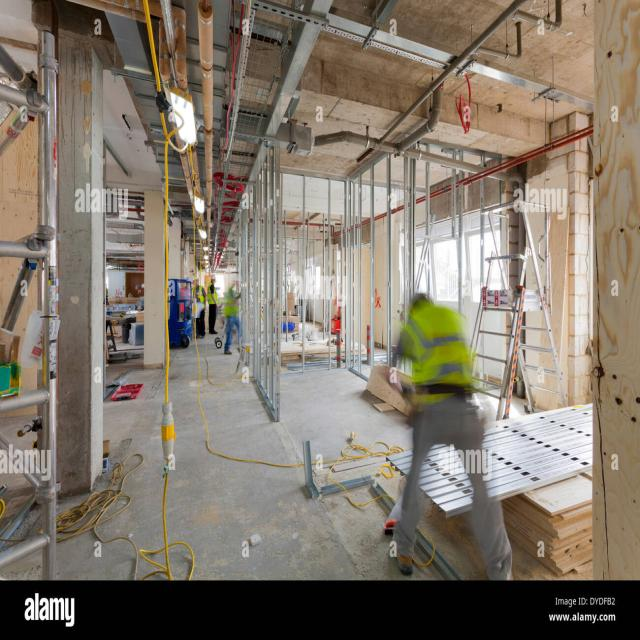Interior Finishing and Carpentry: (21, 48, 381, 412), (393, 24, 640, 200)
